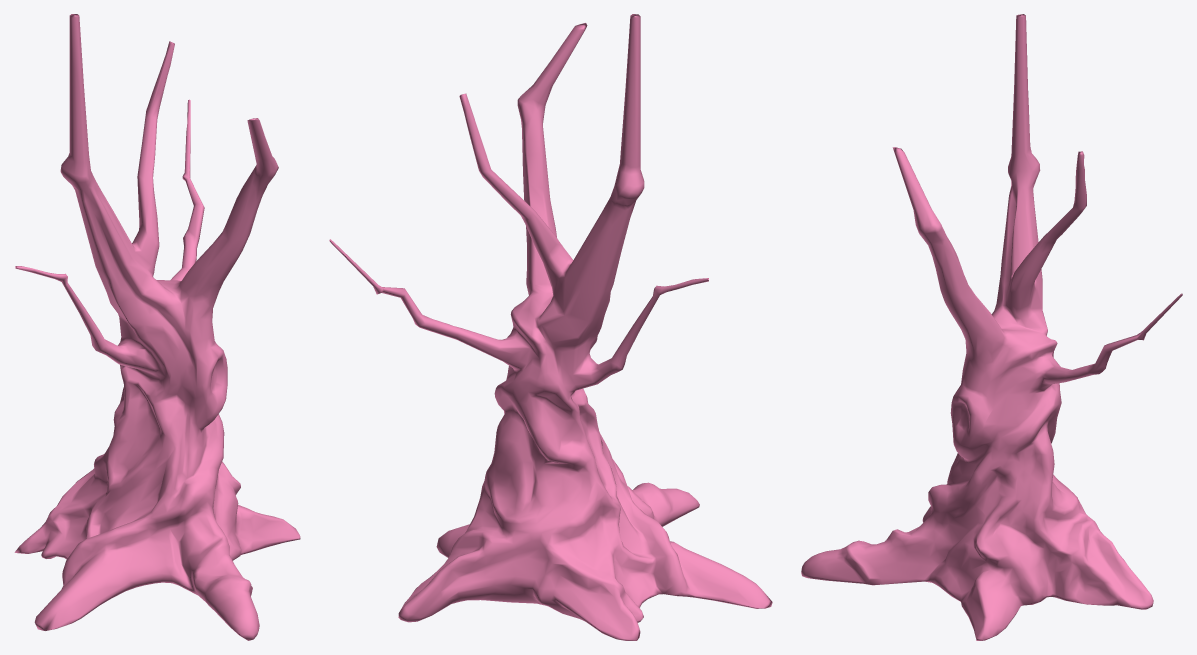
File: tree01.fbx
3 renders of one model, left to right at view 1: azimuth 30°, elevation 25°; view 2: azimuth 150°, elevation 25°; view 3: azimuth 270°, elevation 25°, orthographic. The views are drawn at different scales.
Parts seen in each view (by area): view 1: tree_heighZB.001; view 2: tree_heighZB.001; view 3: tree_heighZB.001.
Part boxes in pixels (left/top/right/bottom): tree_heighZB.001: left=14, top=14, right=300, bottom=640; tree_heighZB.001: left=329, top=14, right=772, bottom=640; tree_heighZB.001: left=801, top=14, right=1182, bottom=640.
Bounding box in the file's own units: 503 × 946 × 610.
